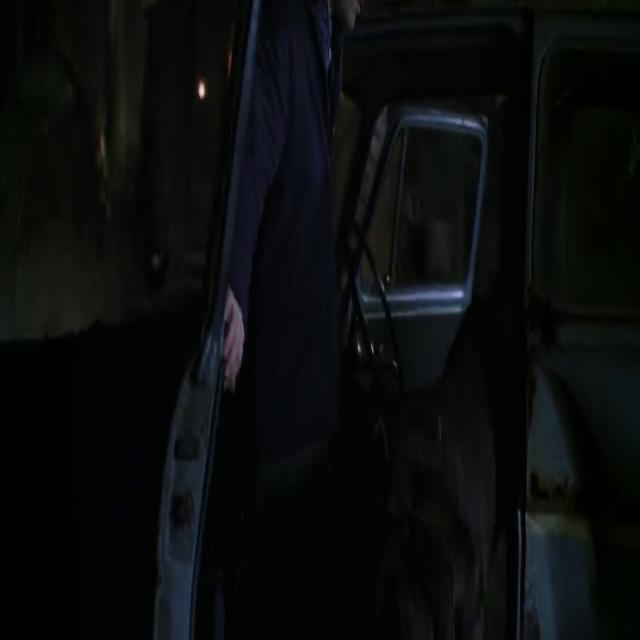People: (216, 0, 369, 640)
dog: (401, 247, 533, 640)
